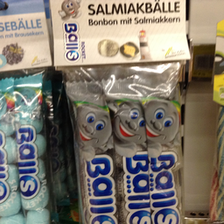candy: (58, 1, 194, 224), (1, 2, 53, 223)
